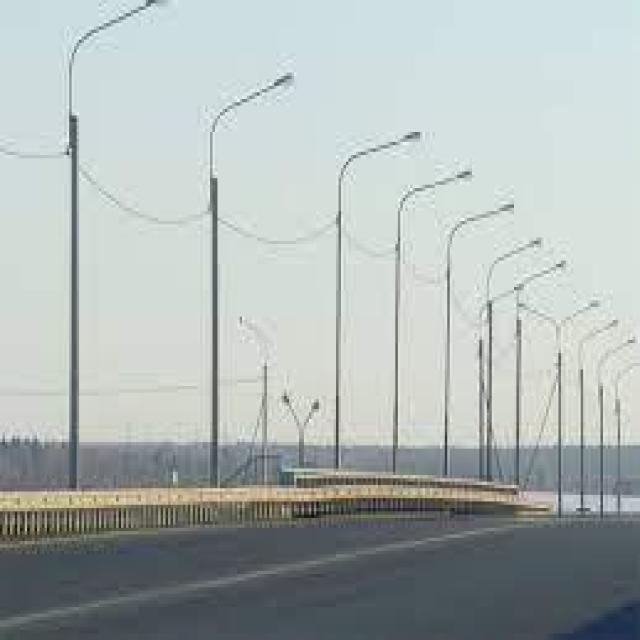pole: (63, 170, 98, 492), (206, 219, 229, 485)
